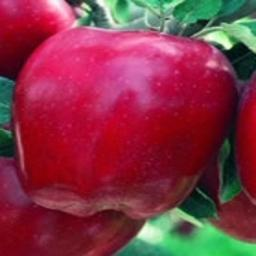apple: (11, 22, 240, 220), (1, 1, 74, 79)
